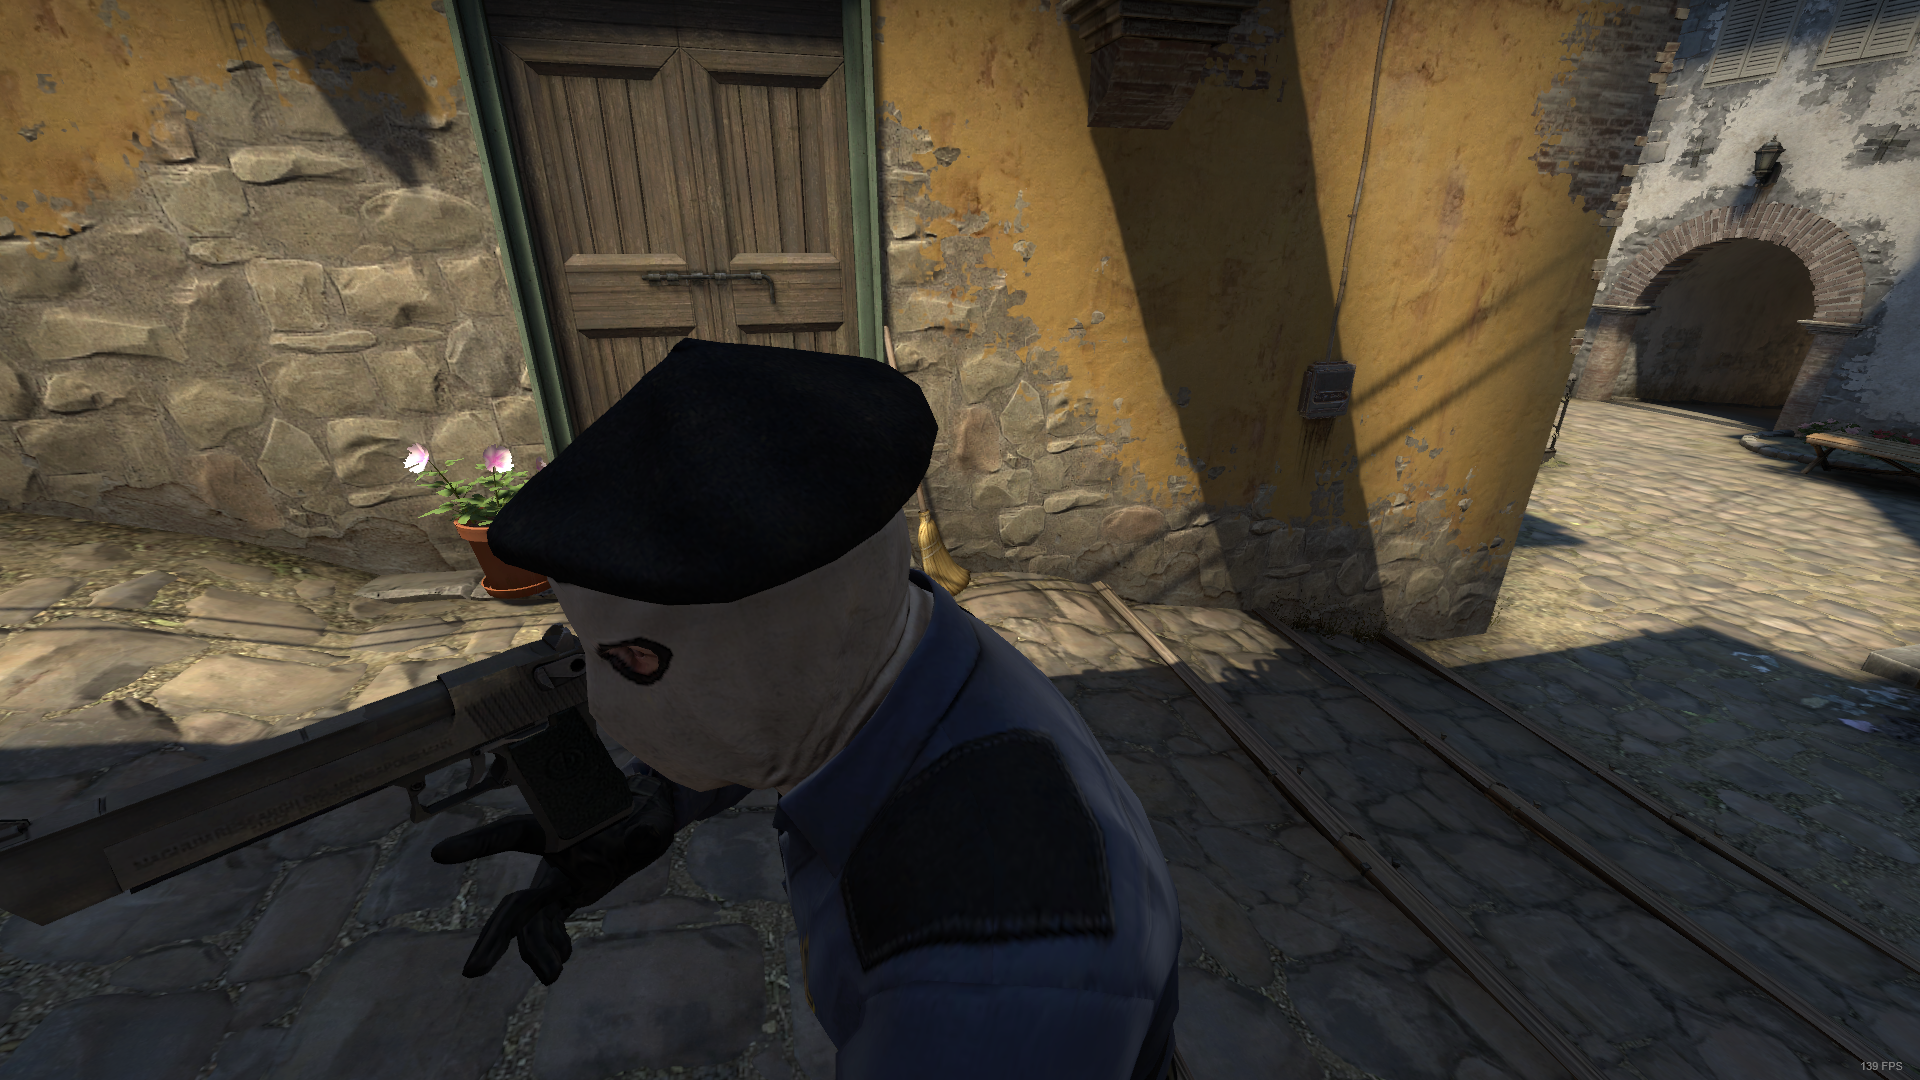t: (434, 339, 1234, 1080)
